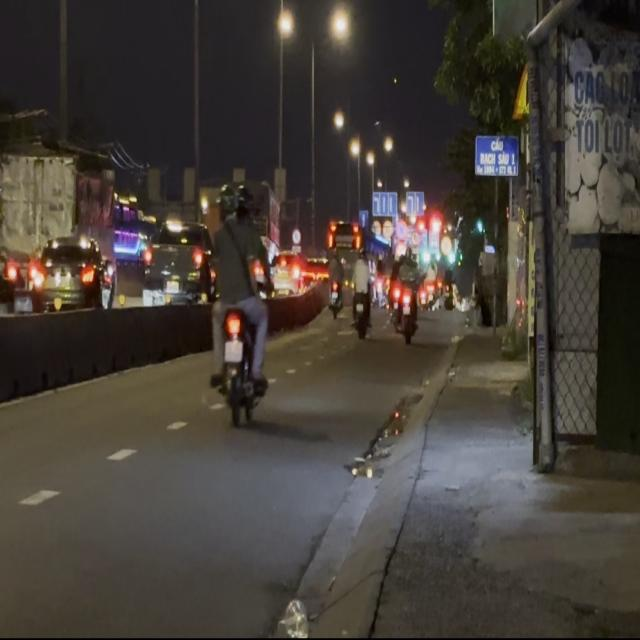helmet: (234, 181, 254, 223), (214, 184, 236, 218)
licenseplate: (201, 172, 278, 434)
nohelmet: (225, 341, 242, 361)
